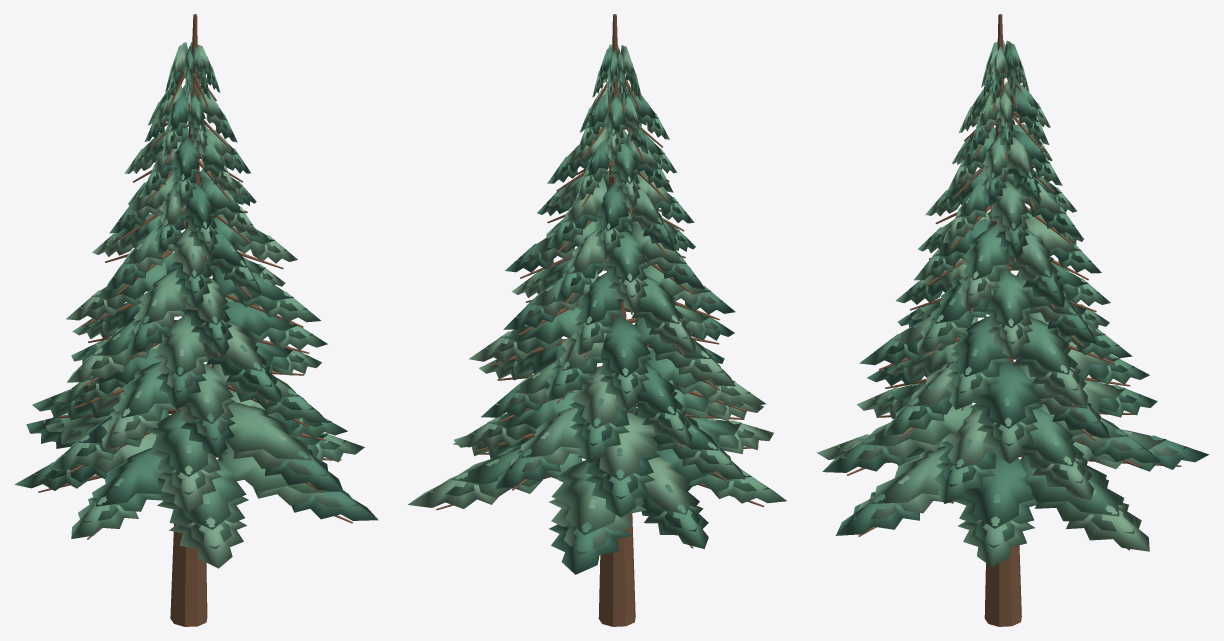
Rendered from cedar.glb.
3 views of the same model, side by side, from view 1: azimuth 30°, elevation 25°; view 2: azimuth 150°, elevation 25°; view 3: azimuth 270°, elevation 25° (orthographic).
Visible parts, largest first — view 1: CedarCanopy, CedarTrunk; view 2: CedarCanopy, CedarTrunk; view 3: CedarCanopy, CedarTrunk.
Boxes of the visible parts, bbox=[...] form: CedarCanopy: bbox=[15, 42, 378, 568]; CedarTrunk: bbox=[38, 14, 352, 626]; CedarCanopy: bbox=[408, 44, 786, 574]; CedarTrunk: bbox=[436, 14, 764, 626]; CedarCanopy: bbox=[816, 40, 1208, 567]; CedarTrunk: bbox=[847, 14, 1181, 626].
Size of the model in its own units: 6.54 by 12 by 7.05.
